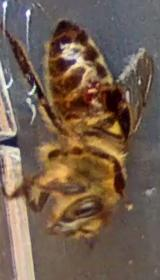varroa_mite: (74, 68, 110, 110)
